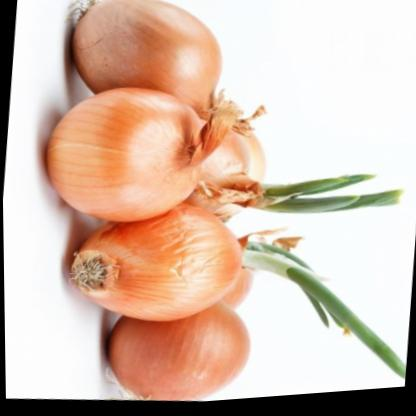--: (22, 76, 246, 245), (48, 190, 256, 345), (53, 0, 246, 141), (94, 292, 263, 411)
